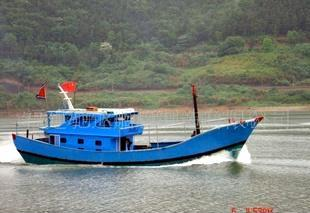otherboat: (7, 83, 263, 167)
